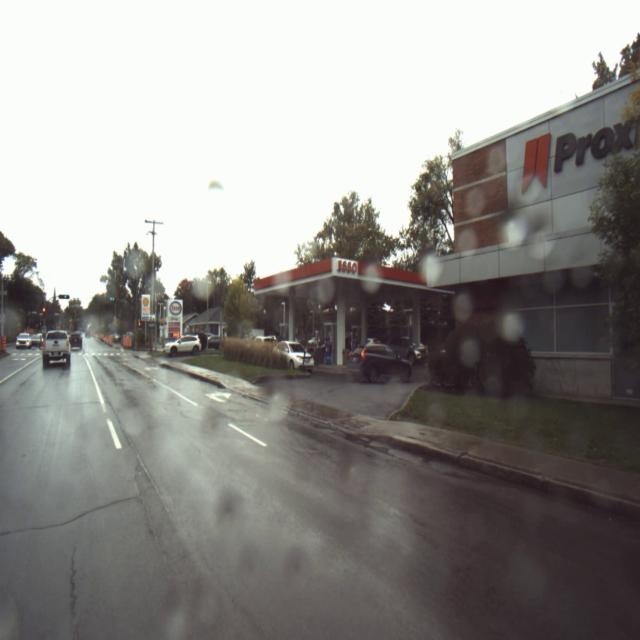car: (348, 344, 412, 386), (274, 338, 313, 376), (42, 331, 72, 370), (164, 336, 201, 358), (15, 332, 30, 350), (70, 332, 82, 352)
trafficLight: (137, 318, 142, 327), (42, 306, 46, 313)
trafficLight-Green: (60, 294, 70, 300), (109, 295, 115, 301)
